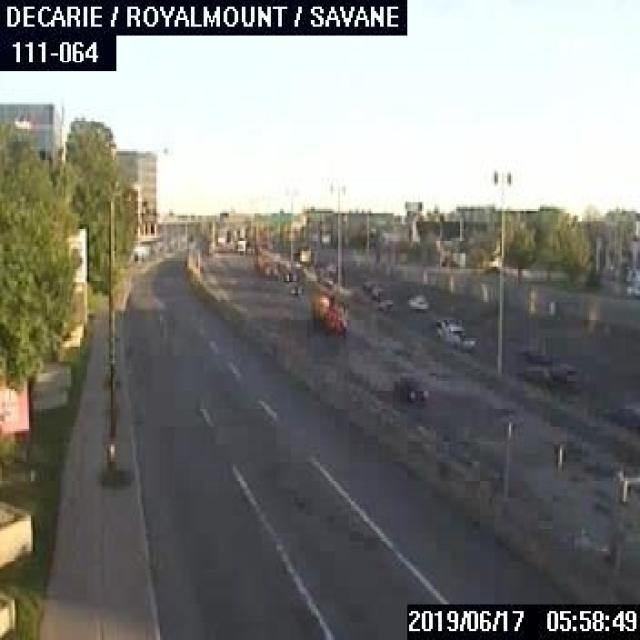vehicle: (518, 358, 580, 389), (431, 316, 477, 350), (310, 292, 347, 332), (389, 371, 427, 407), (616, 400, 638, 431), (405, 292, 429, 309), (370, 282, 386, 298), (375, 298, 393, 309), (287, 283, 302, 296), (282, 268, 296, 280)
